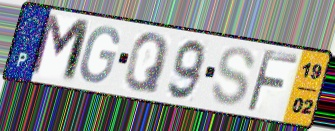9: (167, 38, 208, 102)
F: (243, 47, 300, 115)
G: (77, 25, 121, 86)
M: (25, 12, 93, 86)
Q: (122, 31, 172, 96)
S: (209, 45, 258, 108)
